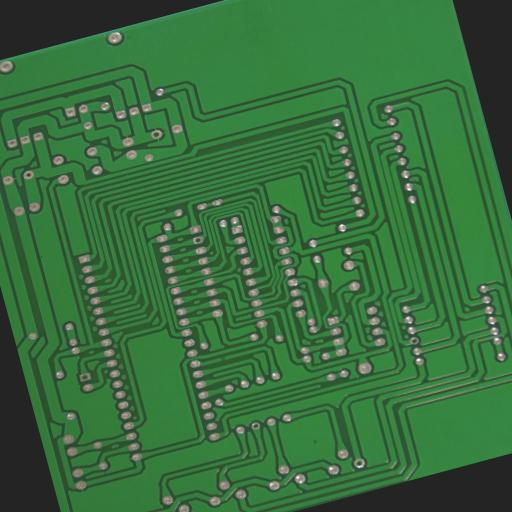missing_hole: (350, 456, 366, 470), (148, 128, 163, 141), (20, 168, 34, 181), (191, 234, 204, 245), (78, 371, 90, 382), (406, 336, 418, 346), (248, 420, 260, 430)
